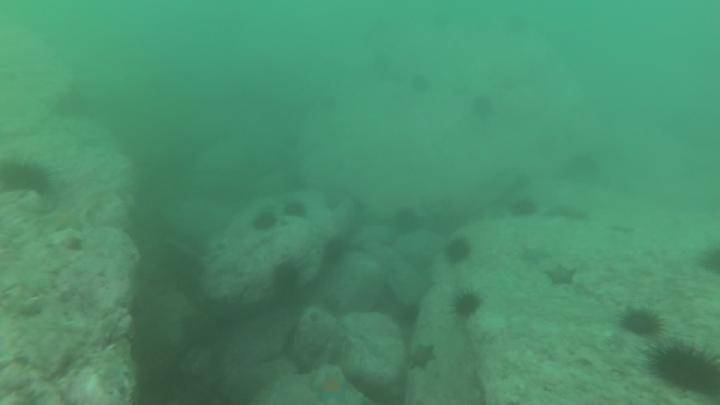echinus: (640, 339, 720, 403), (618, 304, 671, 348), (1, 159, 57, 200), (562, 149, 604, 183), (450, 287, 487, 323), (442, 237, 478, 270), (270, 260, 306, 292), (391, 205, 422, 240), (323, 233, 354, 264), (250, 210, 280, 235), (509, 197, 541, 219), (699, 247, 720, 278), (469, 91, 495, 116), (408, 70, 435, 94), (282, 197, 310, 220), (400, 303, 424, 329)
starfish: (307, 368, 356, 405), (404, 342, 441, 373), (543, 261, 581, 291)
